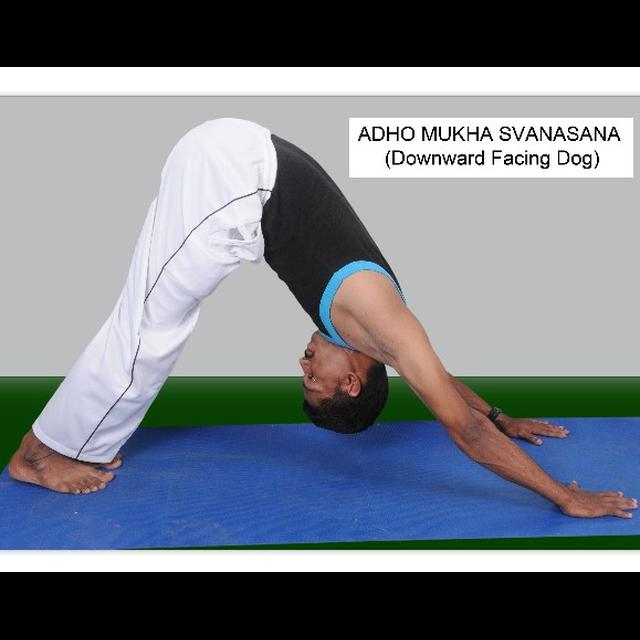Downward-Facing_Dog: (7, 112, 640, 525)
